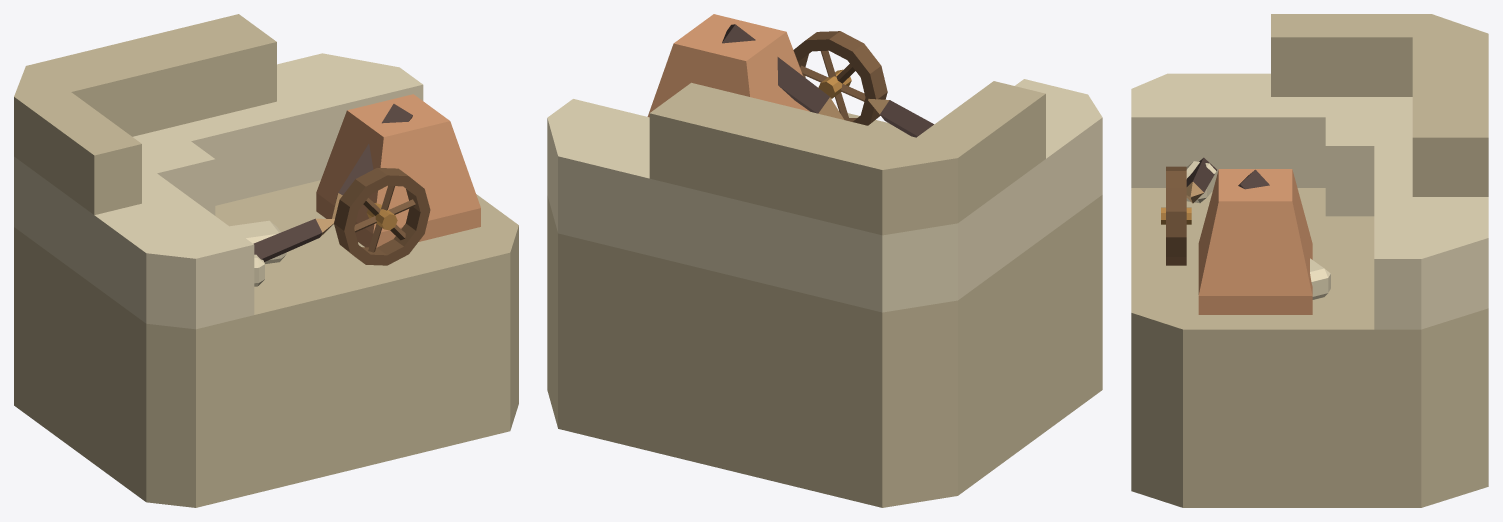
File: ns-pillaged-quarry.glb
3 views of the same model, side by side, from view 1: azimuth 30°, elevation 25°; view 2: azimuth 150°, elevation 25°; view 3: azimuth 270°, elevation 25° (orthographic). The views are drawn at different scales.
Visible parts, largest first — view 1: Stone bench; view 2: Stone bench; view 3: Stone bench.
Part boxes in pixels (box(x1,y1,x2,y2)): Stone bench: box(14, 14, 518, 507); Stone bench: box(547, 14, 1102, 507); Stone bench: box(1131, 14, 1488, 507).
Bounding box in the file's own units: 0.847 × 0.657 × 0.69.
